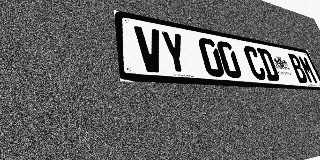0: (197, 37, 226, 77), (215, 40, 243, 79)
B: (287, 53, 309, 83)
C: (242, 45, 268, 80)
D: (256, 48, 281, 81)
M: (297, 55, 319, 84)
V: (134, 25, 166, 73)
Y: (159, 30, 190, 75)
